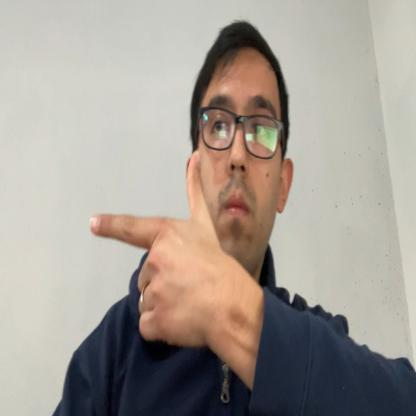G: (90, 148, 219, 346)
